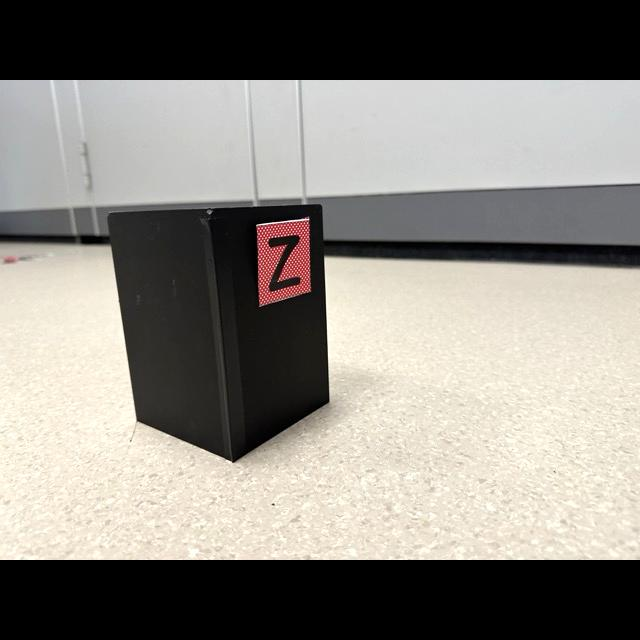Z: (268, 236, 300, 291)
